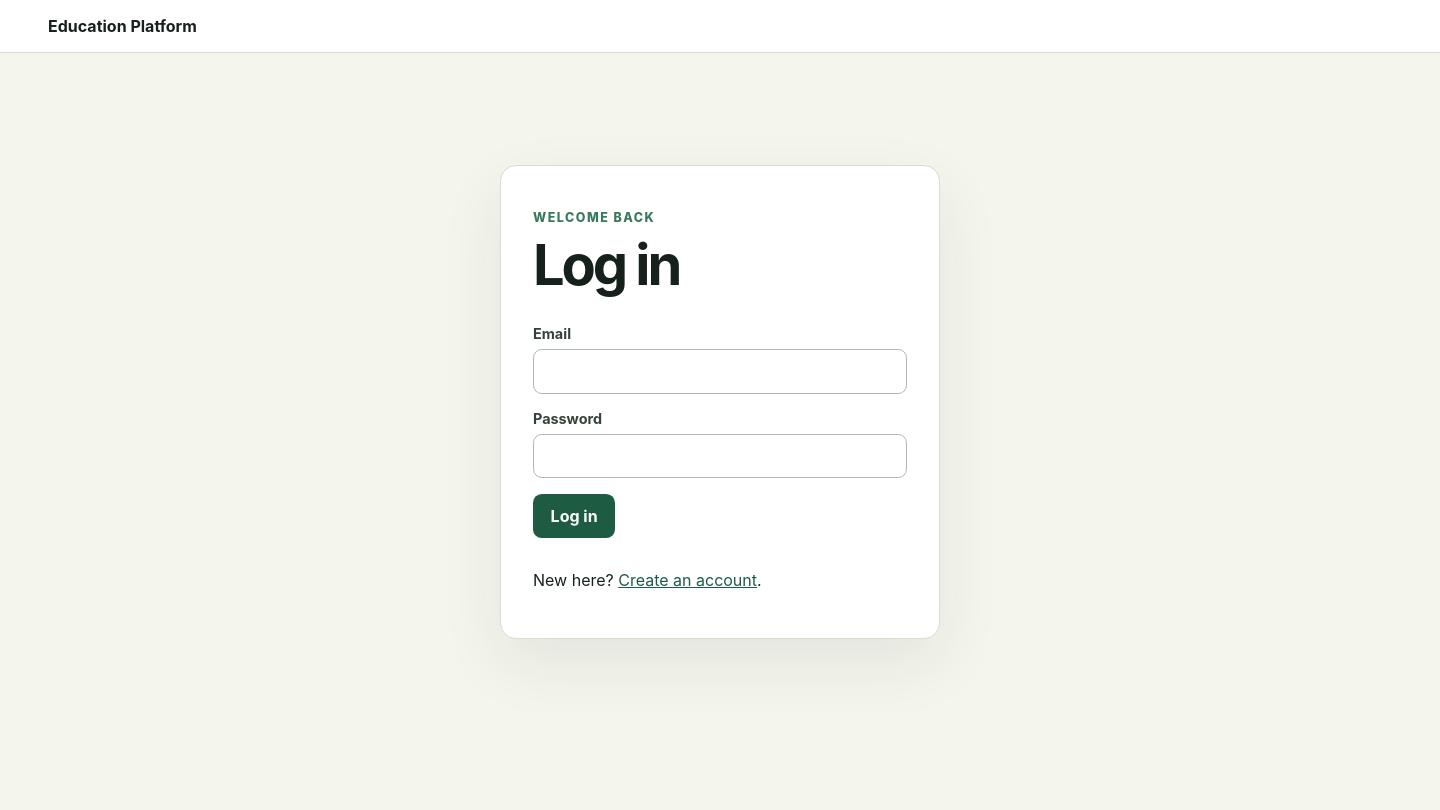
Test case: authentication UI › presents normalized authentication failures
The width and height of the screenshot is (1440, 810).
In the field labelled "Email": (720,371) [533,349,907,394], type "person@example.com"
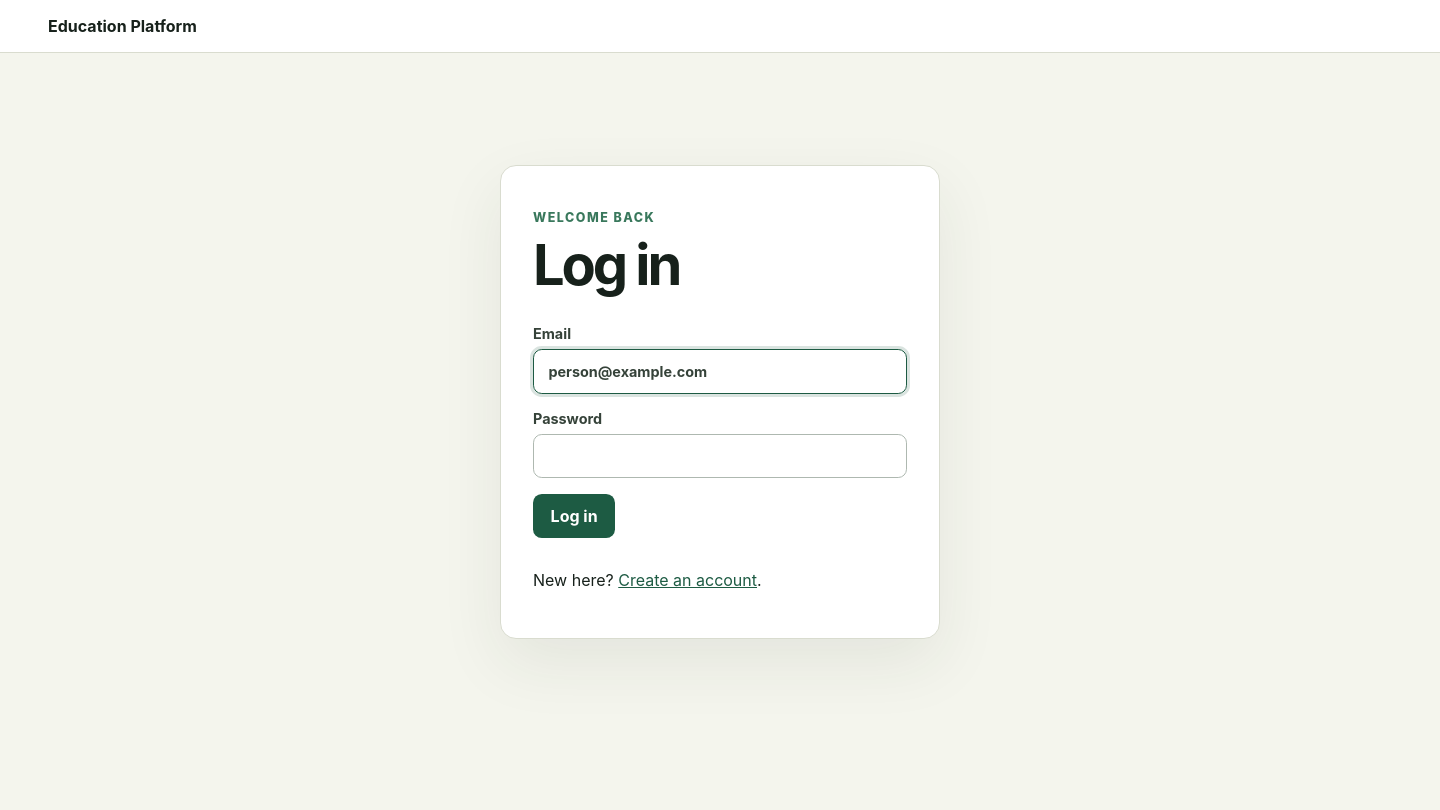
In the password field labelled "Password": (720,456) [533,434,907,478], type "wrong password"
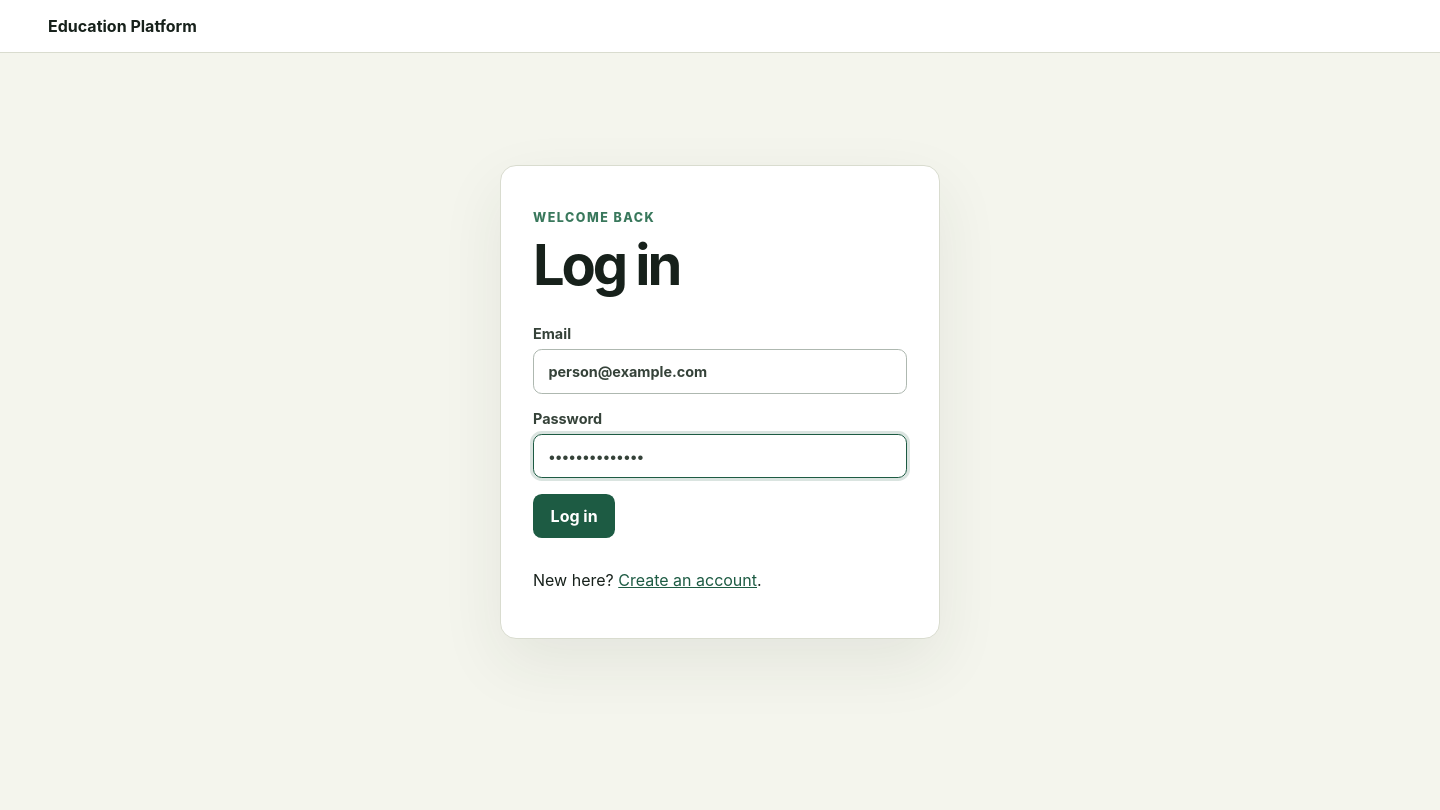
Click the button "Log in": (574,516) [533,494,615,538]
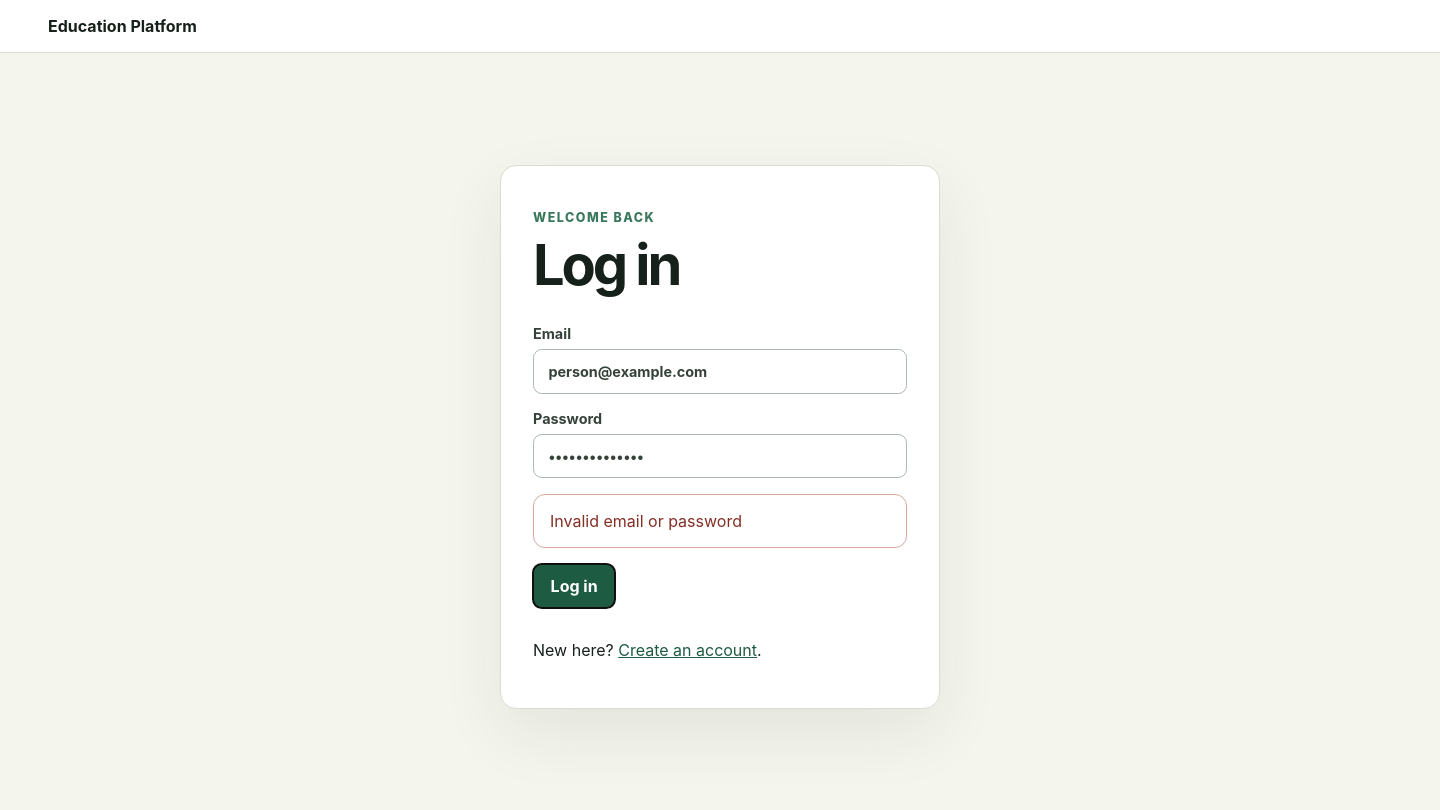
Expected: the message reads "Invalid email or password", [550,511,742,531]
